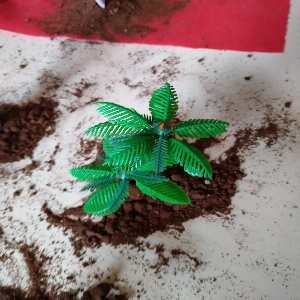plant: (62, 76, 231, 247)
